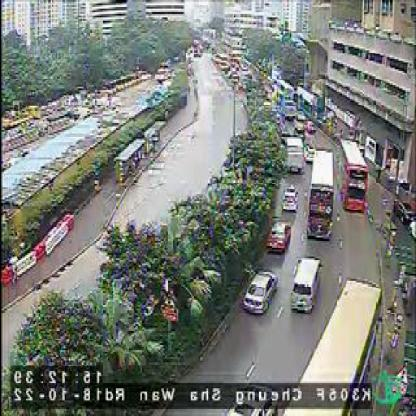Bus: (279, 278, 381, 416), (308, 150, 335, 241), (336, 137, 368, 212)
Car: (288, 257, 322, 315), (242, 270, 277, 316), (266, 218, 291, 253), (281, 187, 298, 213)
Truck: (285, 137, 304, 174)
